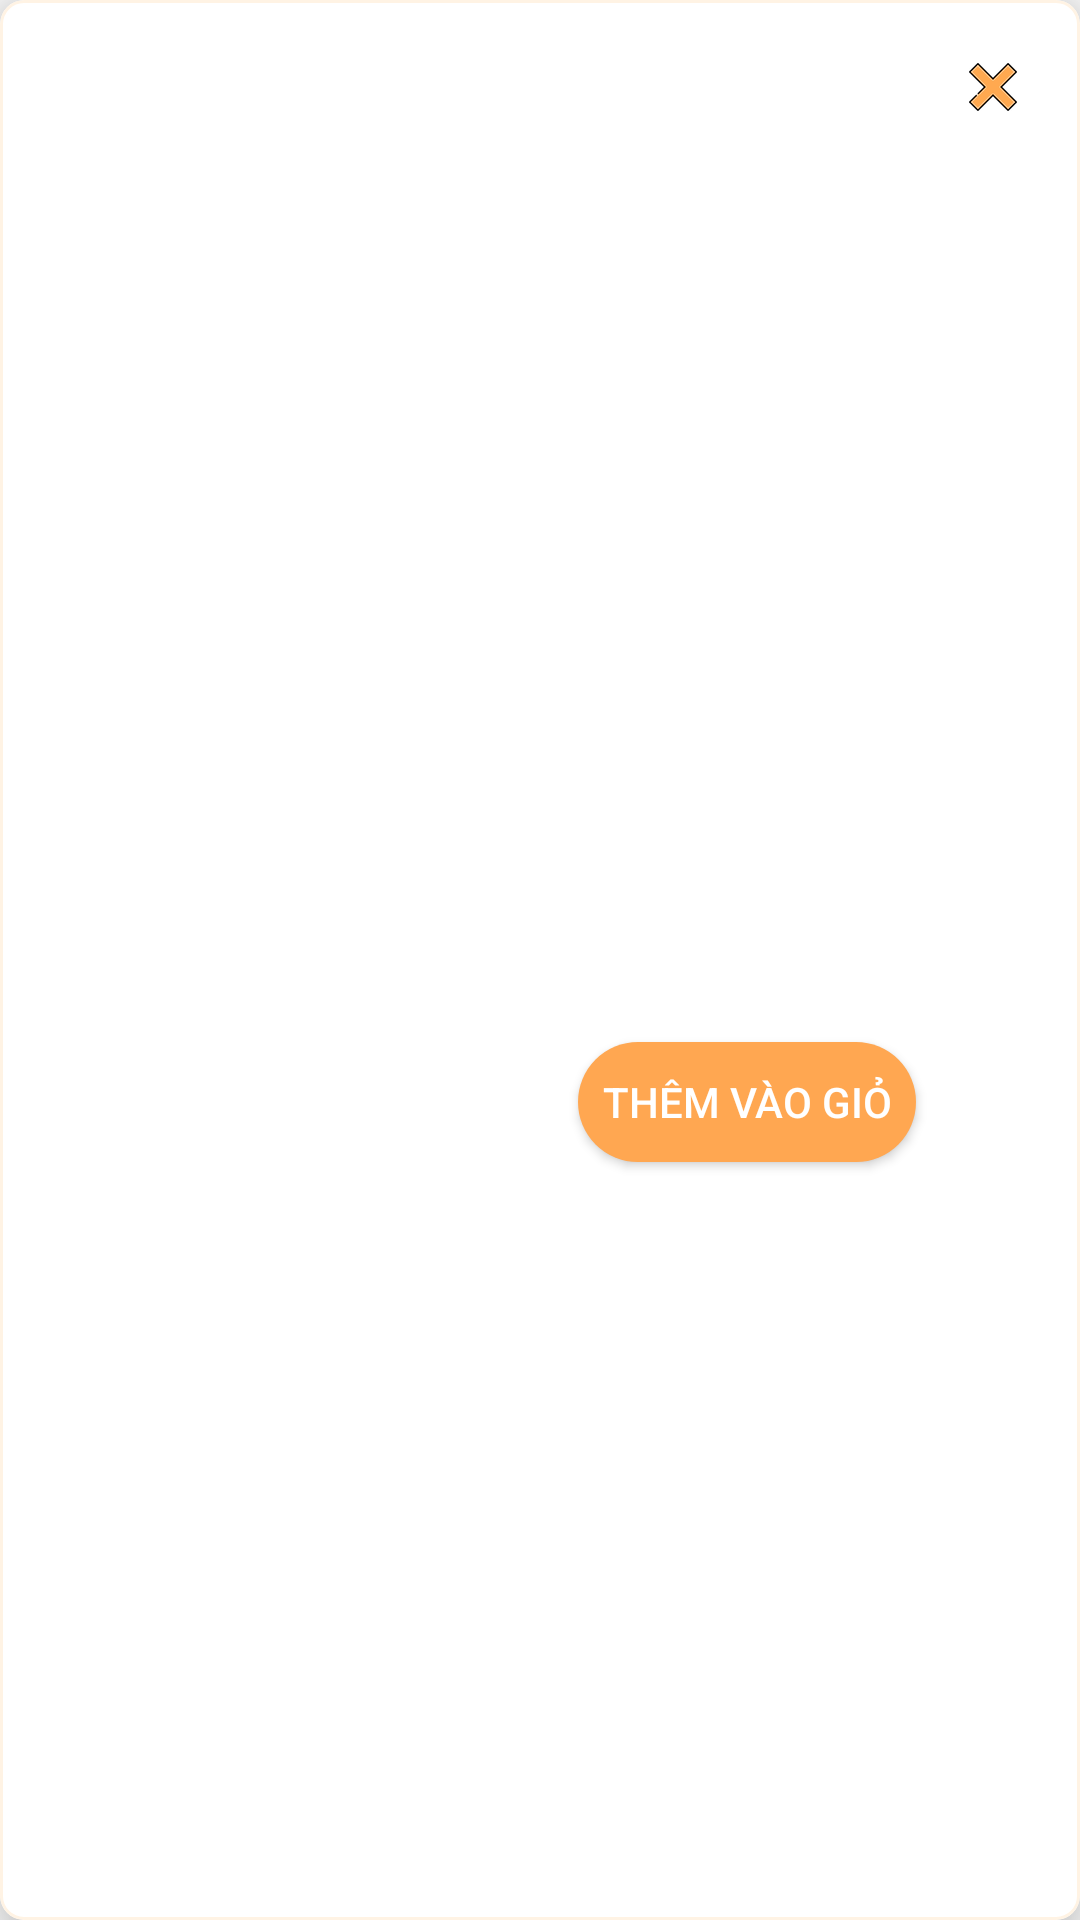

Icons on this 1080w x 1920h Android screen, each with the point to tap as (x=x, y=y):
cancel: (x=993, y=87)
